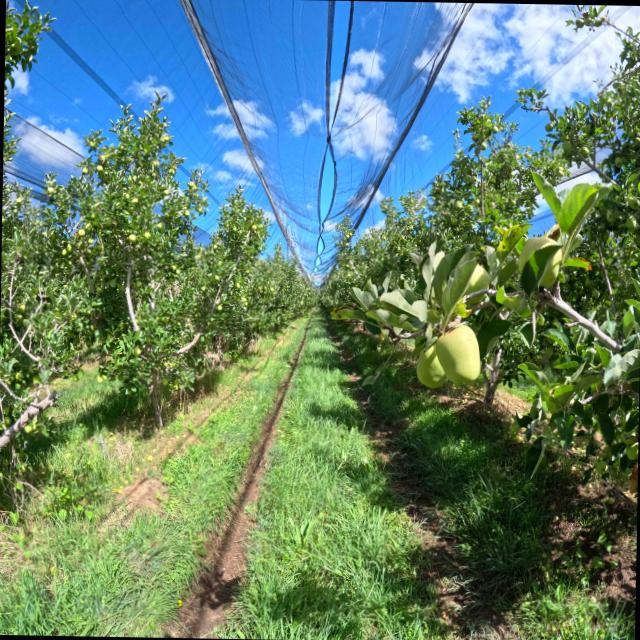-FireBlight-: (626, 461, 637, 493)
